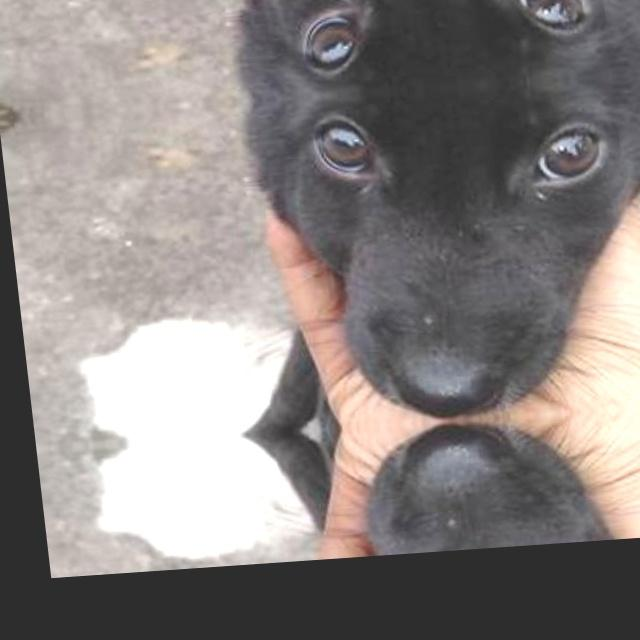dog: (277, 73, 640, 374), (262, 0, 628, 98), (321, 460, 640, 559)
